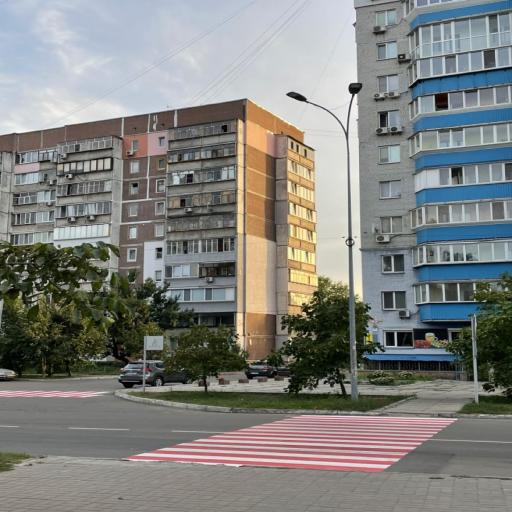bottle: (118, 360, 189, 388)
closet: (125, 415, 456, 472)
construction_fence: (114, 390, 391, 417), (433, 413, 511, 420)
phone: (287, 83, 362, 401)
ramp: (0, 379, 511, 477)
